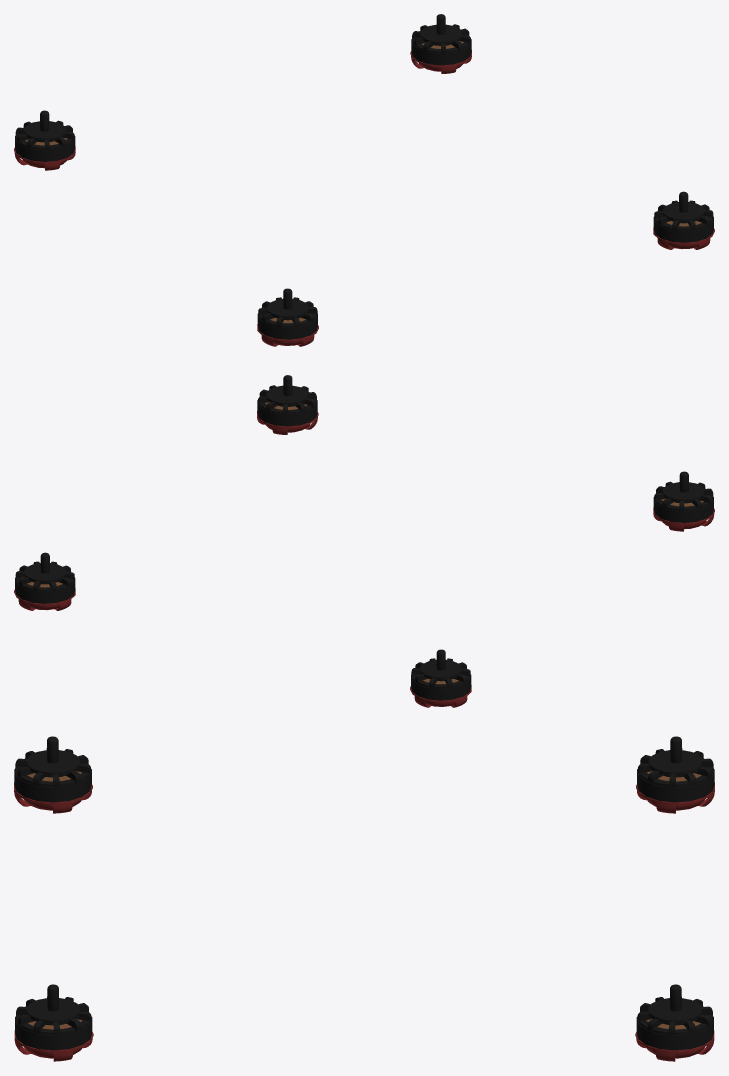
Rendered from motor1.dae.
The picture shows the model from 3 angles, top to bottom: view 1: azimuth 30°, elevation 25°; view 2: azimuth 150°, elevation 25°; view 3: azimuth 270°, elevation 25°; orthographic projection. The views are drawn at different scales.
Parts seen in each view (by area): view 1: Body (×2), Ganz_oben (×2), Unten (×2); view 2: Body (×2), Ganz_oben (×2), Unten (×2); view 3: Body (×2), Ganz_oben (×2), Unten (×2), Großer_Ring_unter_den_Teilen (×2), Prop-Schraube (×2), Dünner_Ring_unten.
Boxes of the visible parts, x1=… form: Body (×2): x1=15, y1=39, x2=713, y2=339; Ganz_oben (×2): x1=24, y1=24, x2=704, y2=319; Unten (×2): x1=14, y1=56, x2=710, y2=346; Body (×2): x1=15, y1=400, x2=713, y2=700; Ganz_oben (×2): x1=24, y1=385, x2=704, y2=680; Unten (×2): x1=18, y1=417, x2=714, y2=707; Body (×2): x1=14, y1=768, x2=714, y2=1050; Ganz_oben (×2): x1=26, y1=750, x2=702, y2=1024; Unten (×2): x1=14, y1=790, x2=714, y2=1061; Großer_Ring_unter_den_Teilen (×2): x1=15, y1=758, x2=713, y2=1035; Prop-Schraube (×2): x1=47, y1=736, x2=681, y2=1011; Dünner_Ring_unten: x1=14, y1=1030, x2=714, y2=1052.
Size of the model in its own units: 684 by 70.45 by 719.
